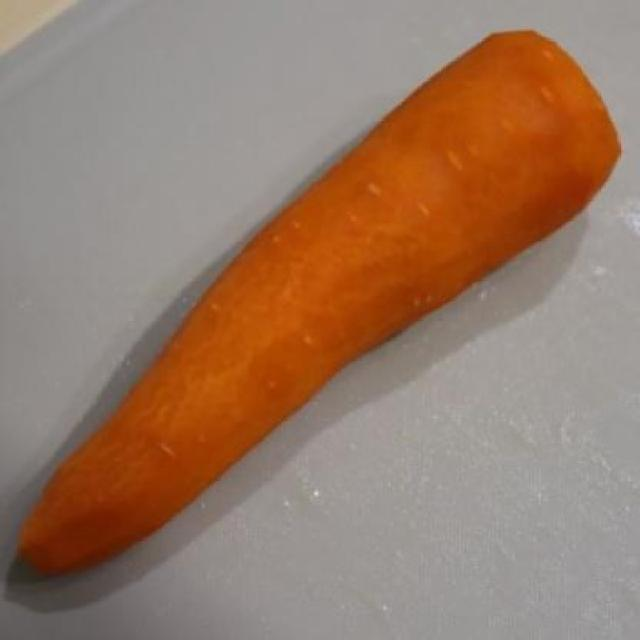carrot: (13, 28, 631, 597)
